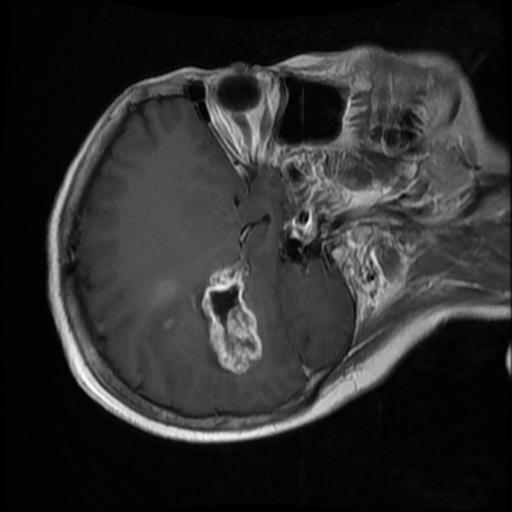glioma: (200, 259, 262, 374)
